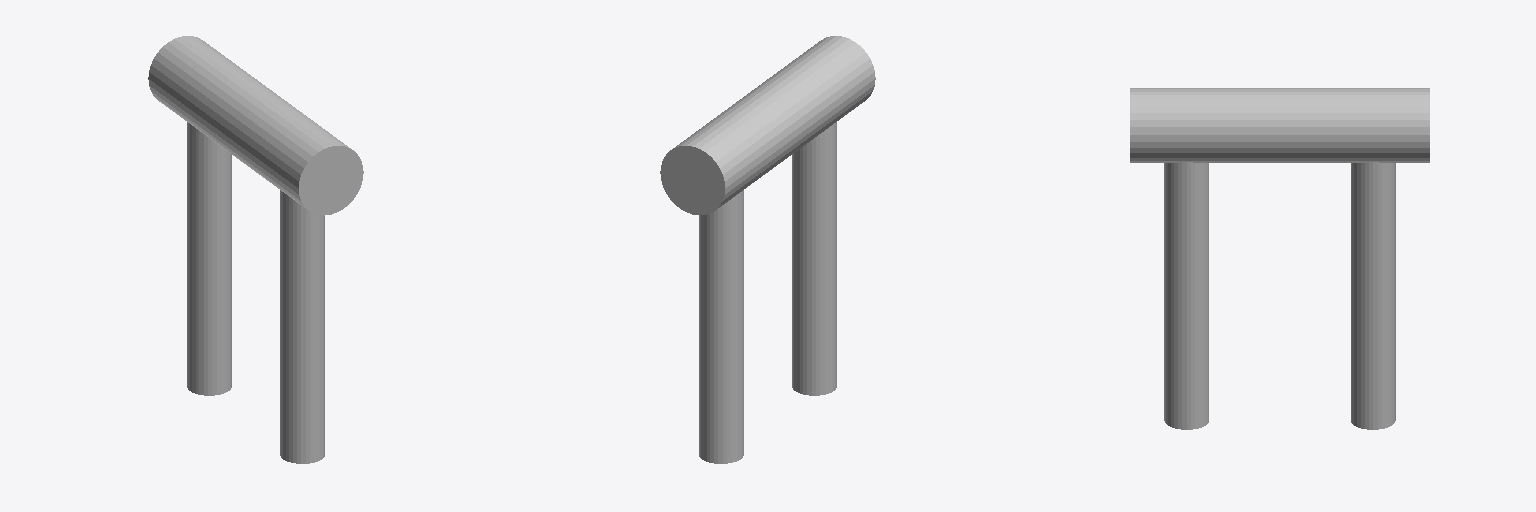
The model's file is lever.obj.
The picture shows the model from 3 angles: view 1: azimuth 30°, elevation 25°; view 2: azimuth 150°, elevation 25°; view 3: azimuth 270°, elevation 25°; orthographic projection.
Visible parts, largest first — view 1: Cylinder, Cylinder.001, Cylinder.002; view 2: Cylinder, Cylinder.002, Cylinder.001; view 3: Cylinder, Cylinder.001, Cylinder.002.
Boxes of the visible parts, box(x1,y1,x2,y2) form: Cylinder: box(148, 36, 363, 215); Cylinder.001: box(280, 190, 324, 463); Cylinder.002: box(187, 122, 231, 395); Cylinder: box(660, 36, 875, 215); Cylinder.002: box(699, 190, 743, 463); Cylinder.001: box(792, 122, 836, 395); Cylinder: box(1130, 88, 1429, 162); Cylinder.001: box(1164, 162, 1208, 429); Cylinder.002: box(1351, 162, 1395, 429).
Size of the model in its own units: 1 by 4.83 by 4.